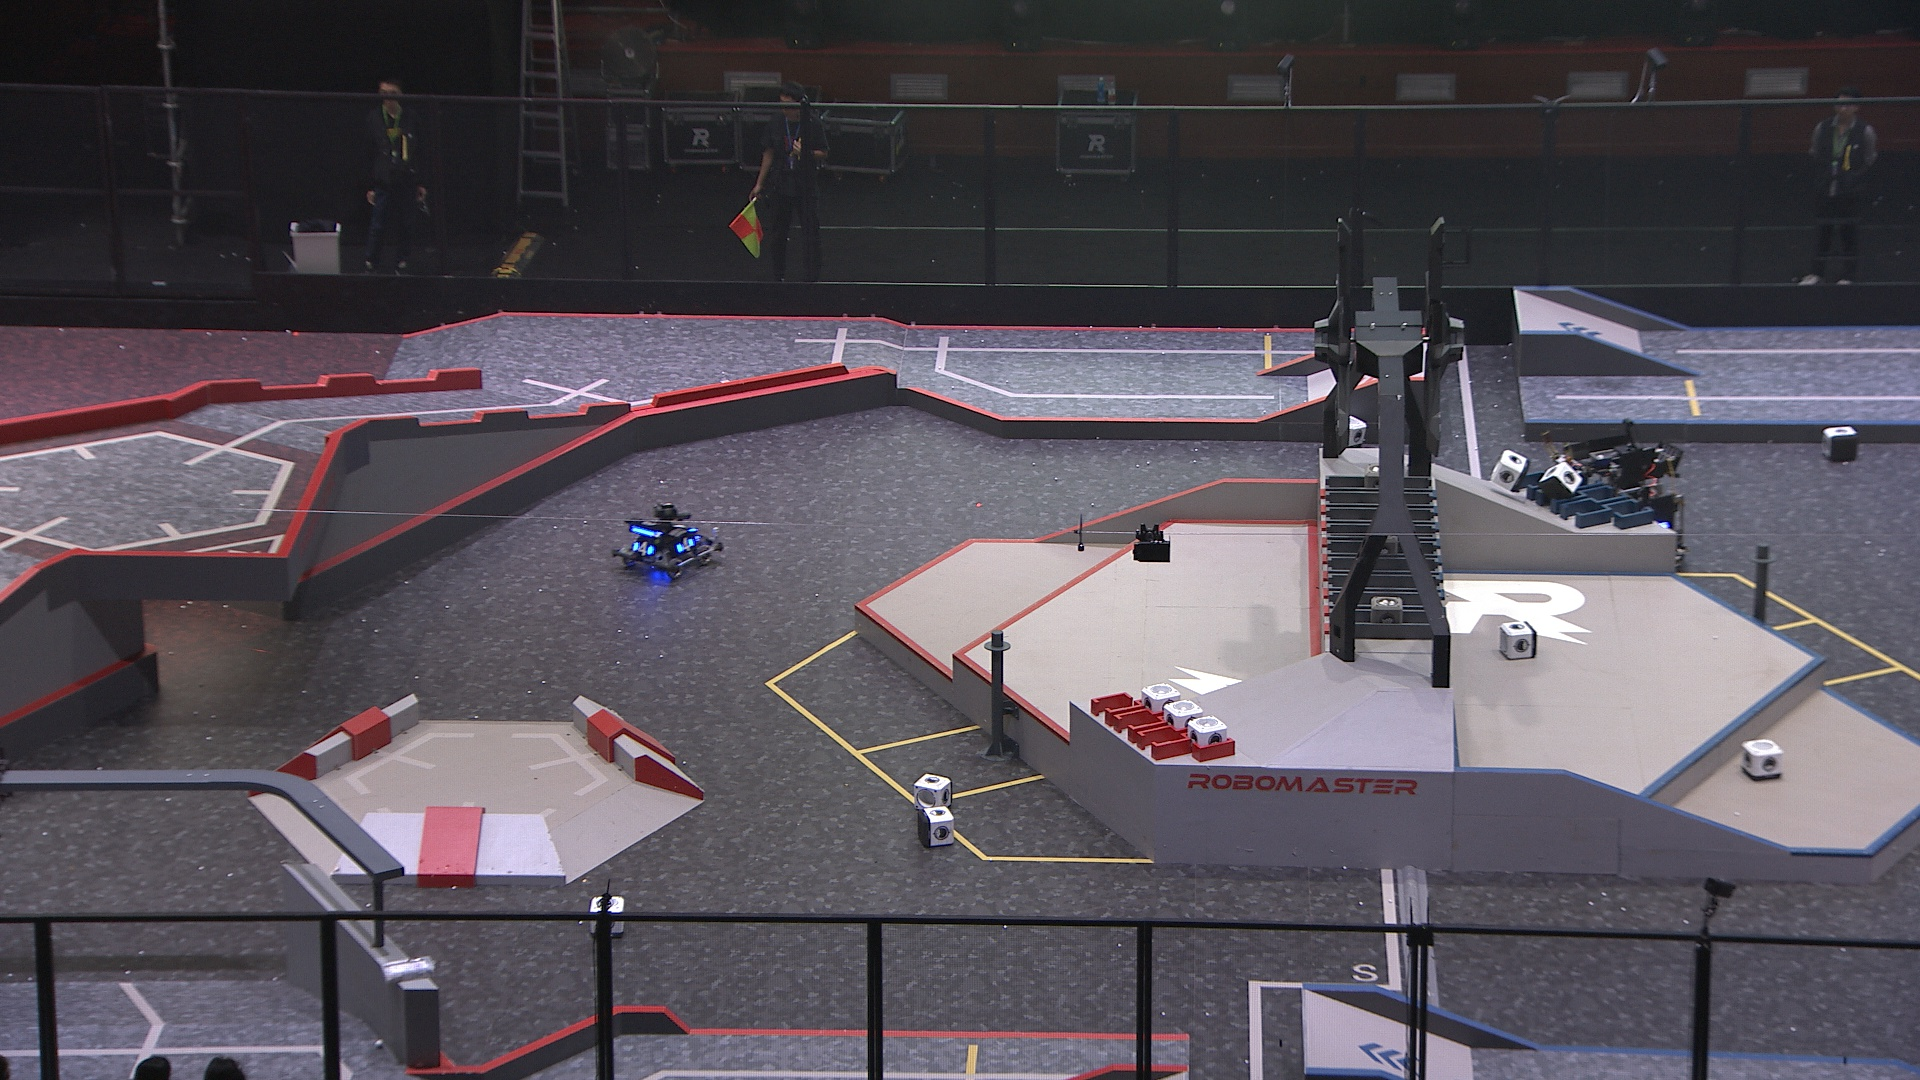armor: (632, 541, 655, 559), (671, 518, 698, 534), (674, 537, 698, 553)
car: (1555, 433, 1688, 578), (615, 504, 727, 580)
